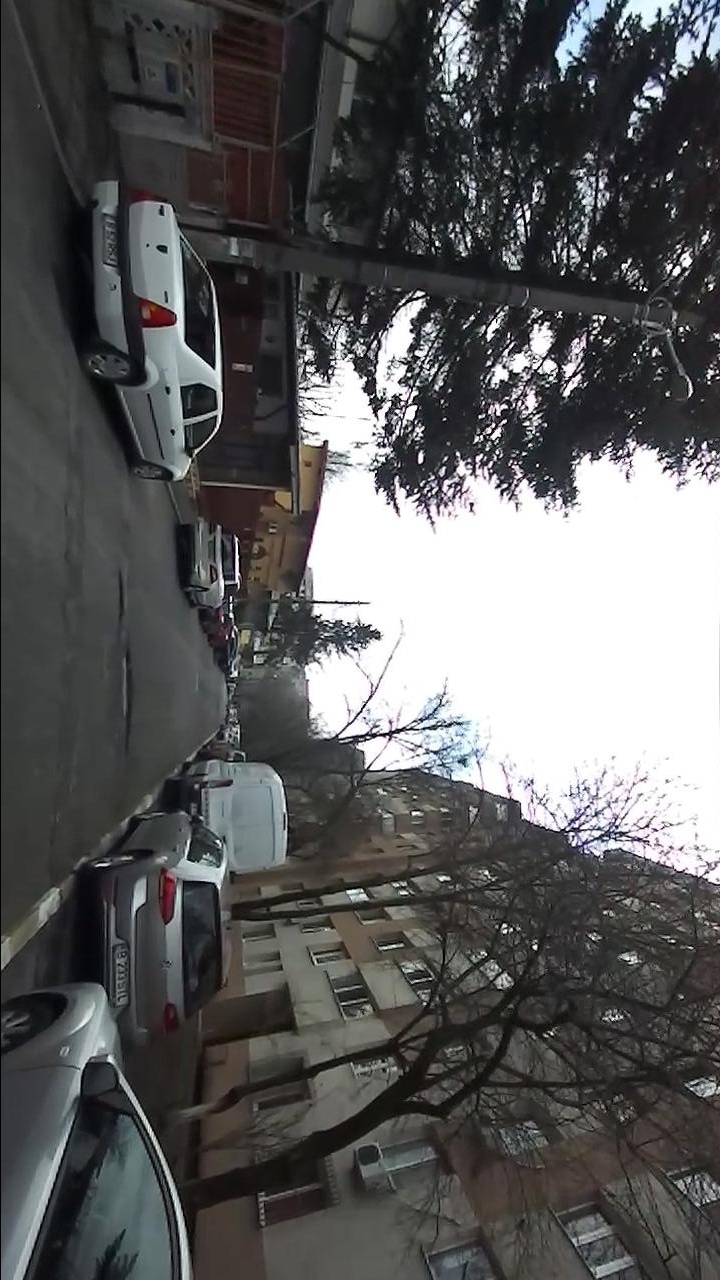pothole: (121, 644, 140, 755), (115, 567, 130, 630)
